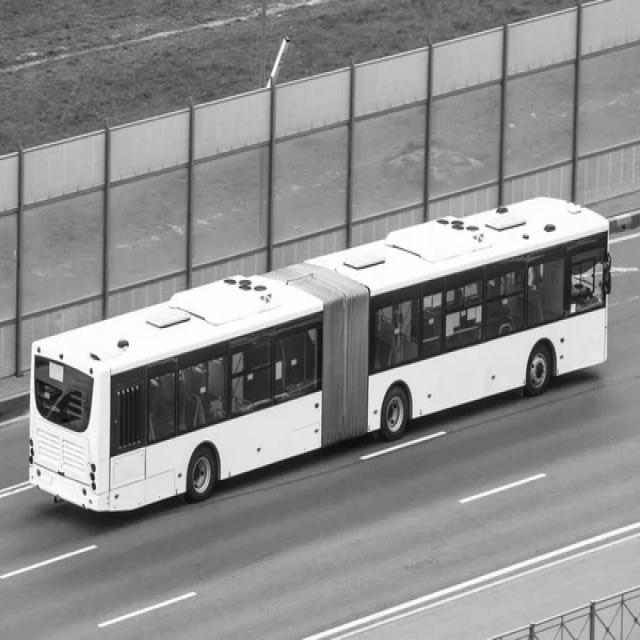Bus: (29, 197, 611, 511)
